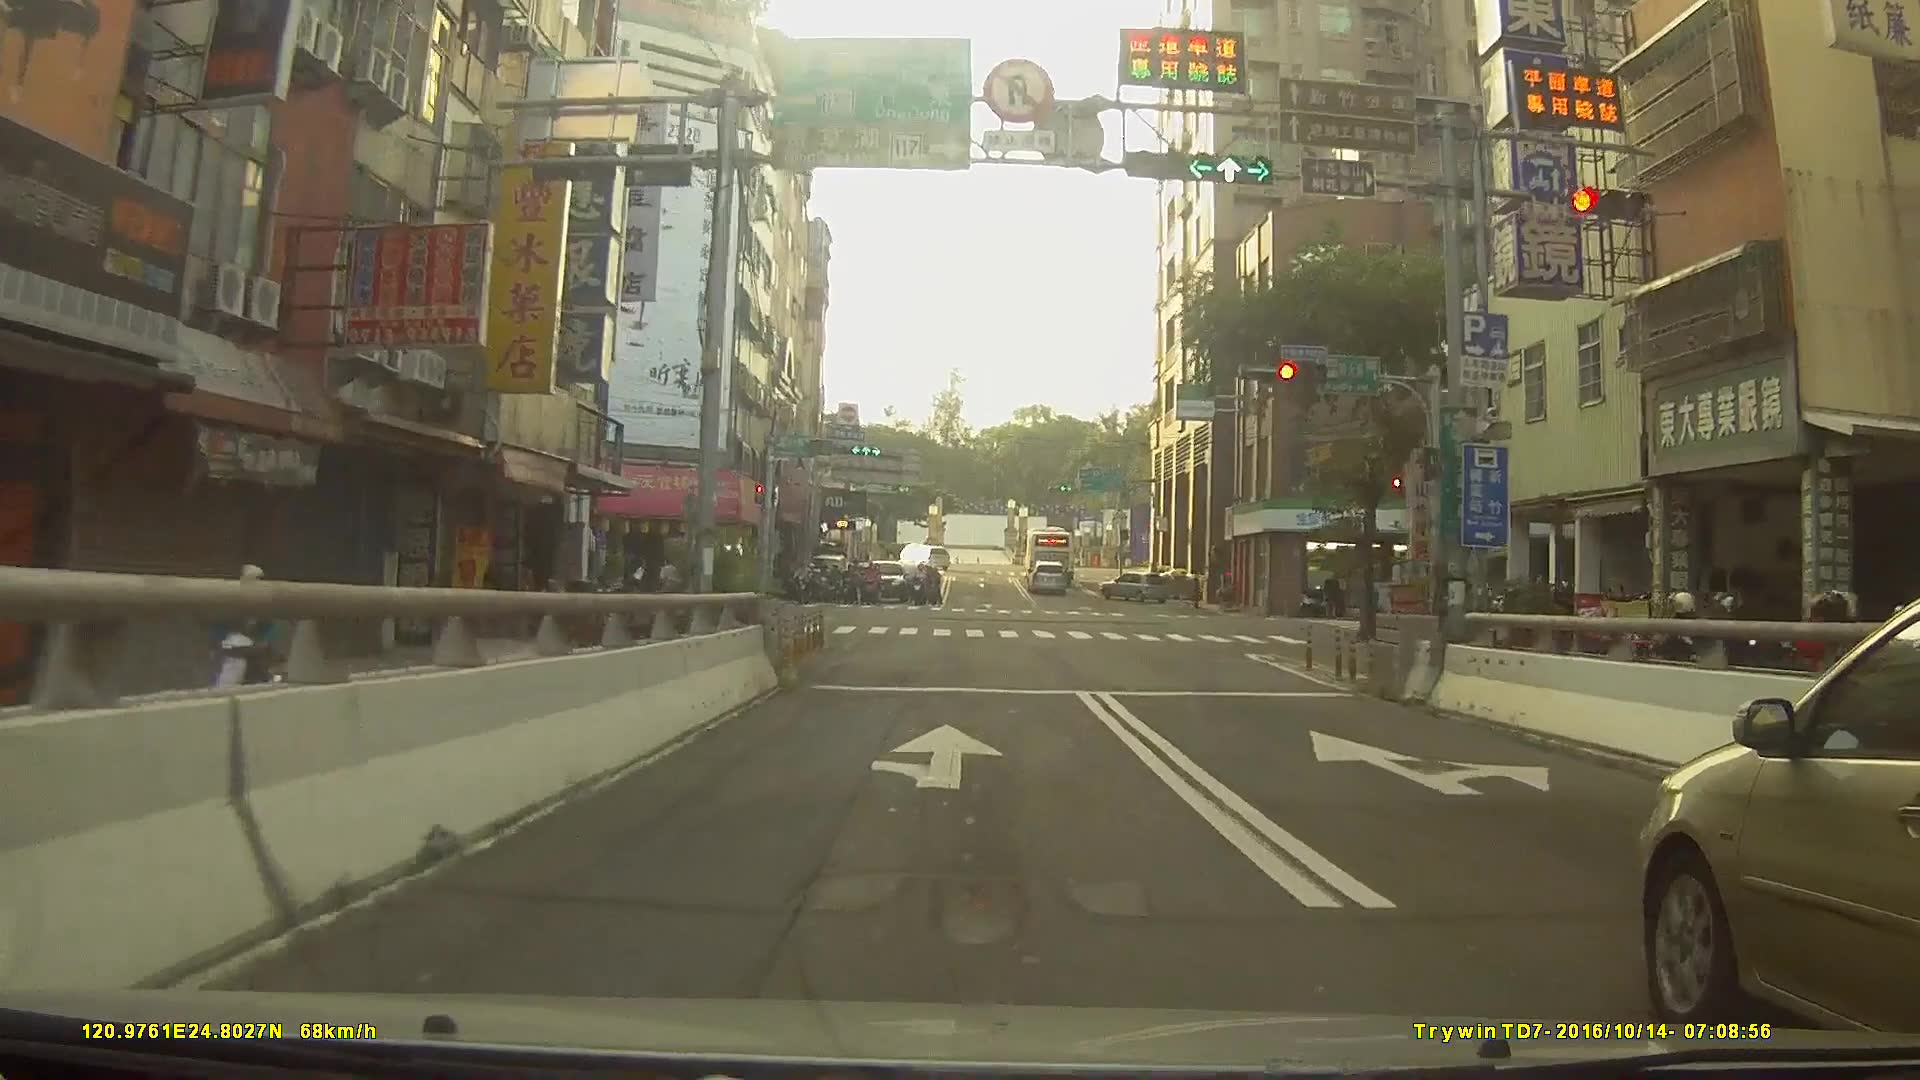pedestrian: (1322, 568, 1343, 622)
rider: (209, 564, 286, 739)
vehicle: (1639, 594, 1920, 1045), (1023, 528, 1075, 577), (1099, 569, 1173, 603), (861, 561, 908, 604), (1028, 560, 1069, 596), (898, 540, 948, 567)
